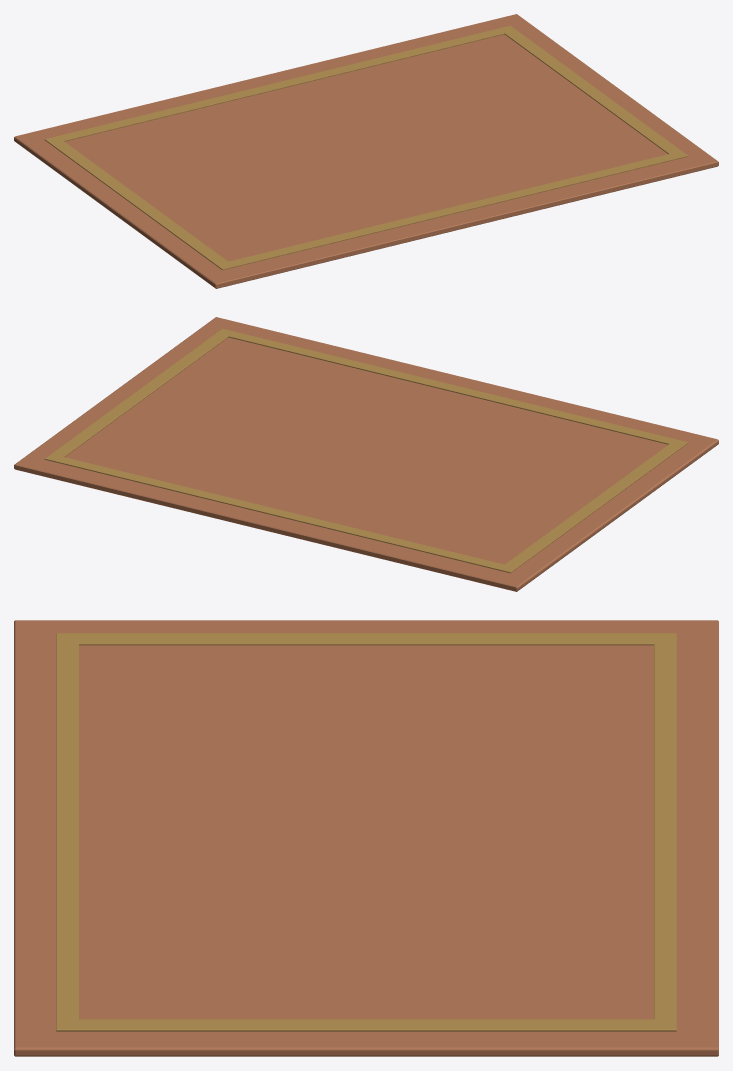
Rendered from rug.glb.
3 views of the same model, one above another, from view 1: azimuth 30°, elevation 25°; view 2: azimuth 150°, elevation 25°; view 3: azimuth 270°, elevation 25° (orthographic). The views are drawn at different scales.
Parts seen in each view (by area): view 1: WovenRug, Border (×4); view 2: WovenRug, Border (×4); view 3: WovenRug, Border (×4).
Boxes of the visible parts, x1,y1,x2,y2 form: WovenRug: [14, 14, 718, 288]; Border (×4): [44, 25, 688, 270]; WovenRug: [14, 317, 718, 591]; Border (×4): [44, 328, 688, 573]; WovenRug: [14, 620, 718, 1056]; Border (×4): [56, 633, 676, 1031].
Bounding box in the file's own units: 1.8 × 0.023 × 1.25.
